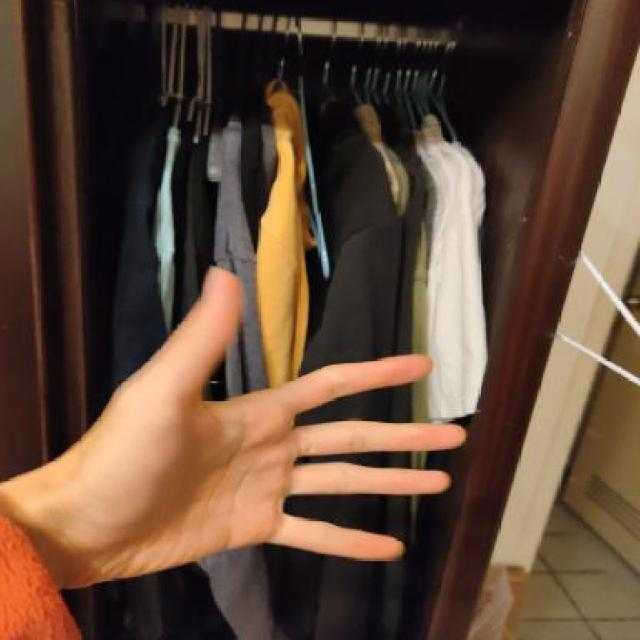bare_hand: (15, 255, 472, 640)
